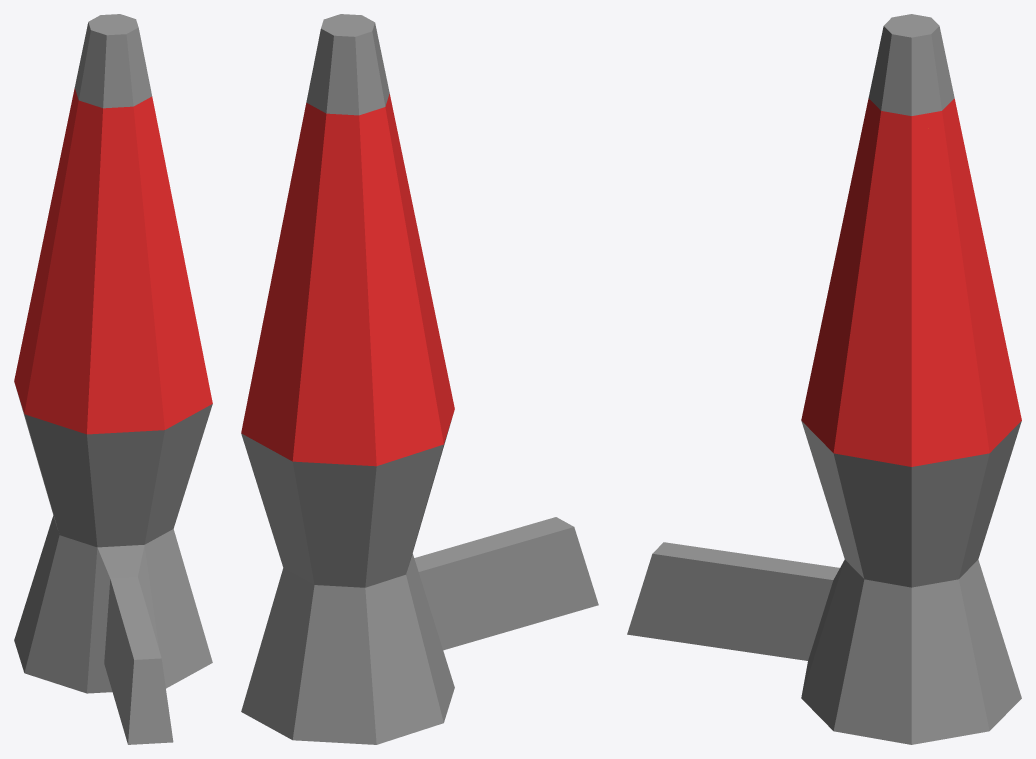
Rendered from lavalamp.fbx.
3 renders of one model, left to right at view 1: azimuth 30°, elevation 25°; view 2: azimuth 150°, elevation 25°; view 3: azimuth 270°, elevation 25°, orthographic. The views are drawn at different scales.
Parts seen in each view (by area): view 1: Object_5, Object_6; view 2: Object_5, Object_6; view 3: Object_5, Object_6.
Boxes of the visible parts, x1=… form: Object_5: x1=14, y1=14, x2=212, y2=744; Object_6: x1=14, y1=88, x2=212, y2=434; Object_5: x1=241, y1=14, x2=598, y2=744; Object_6: x1=241, y1=93, x2=454, y2=466; Object_5: x1=627, y1=14, x2=1021, y2=744; Object_6: x1=801, y1=98, x2=1021, y2=466.
Bounding box in the file's own units: 223 × 672 × 358.
